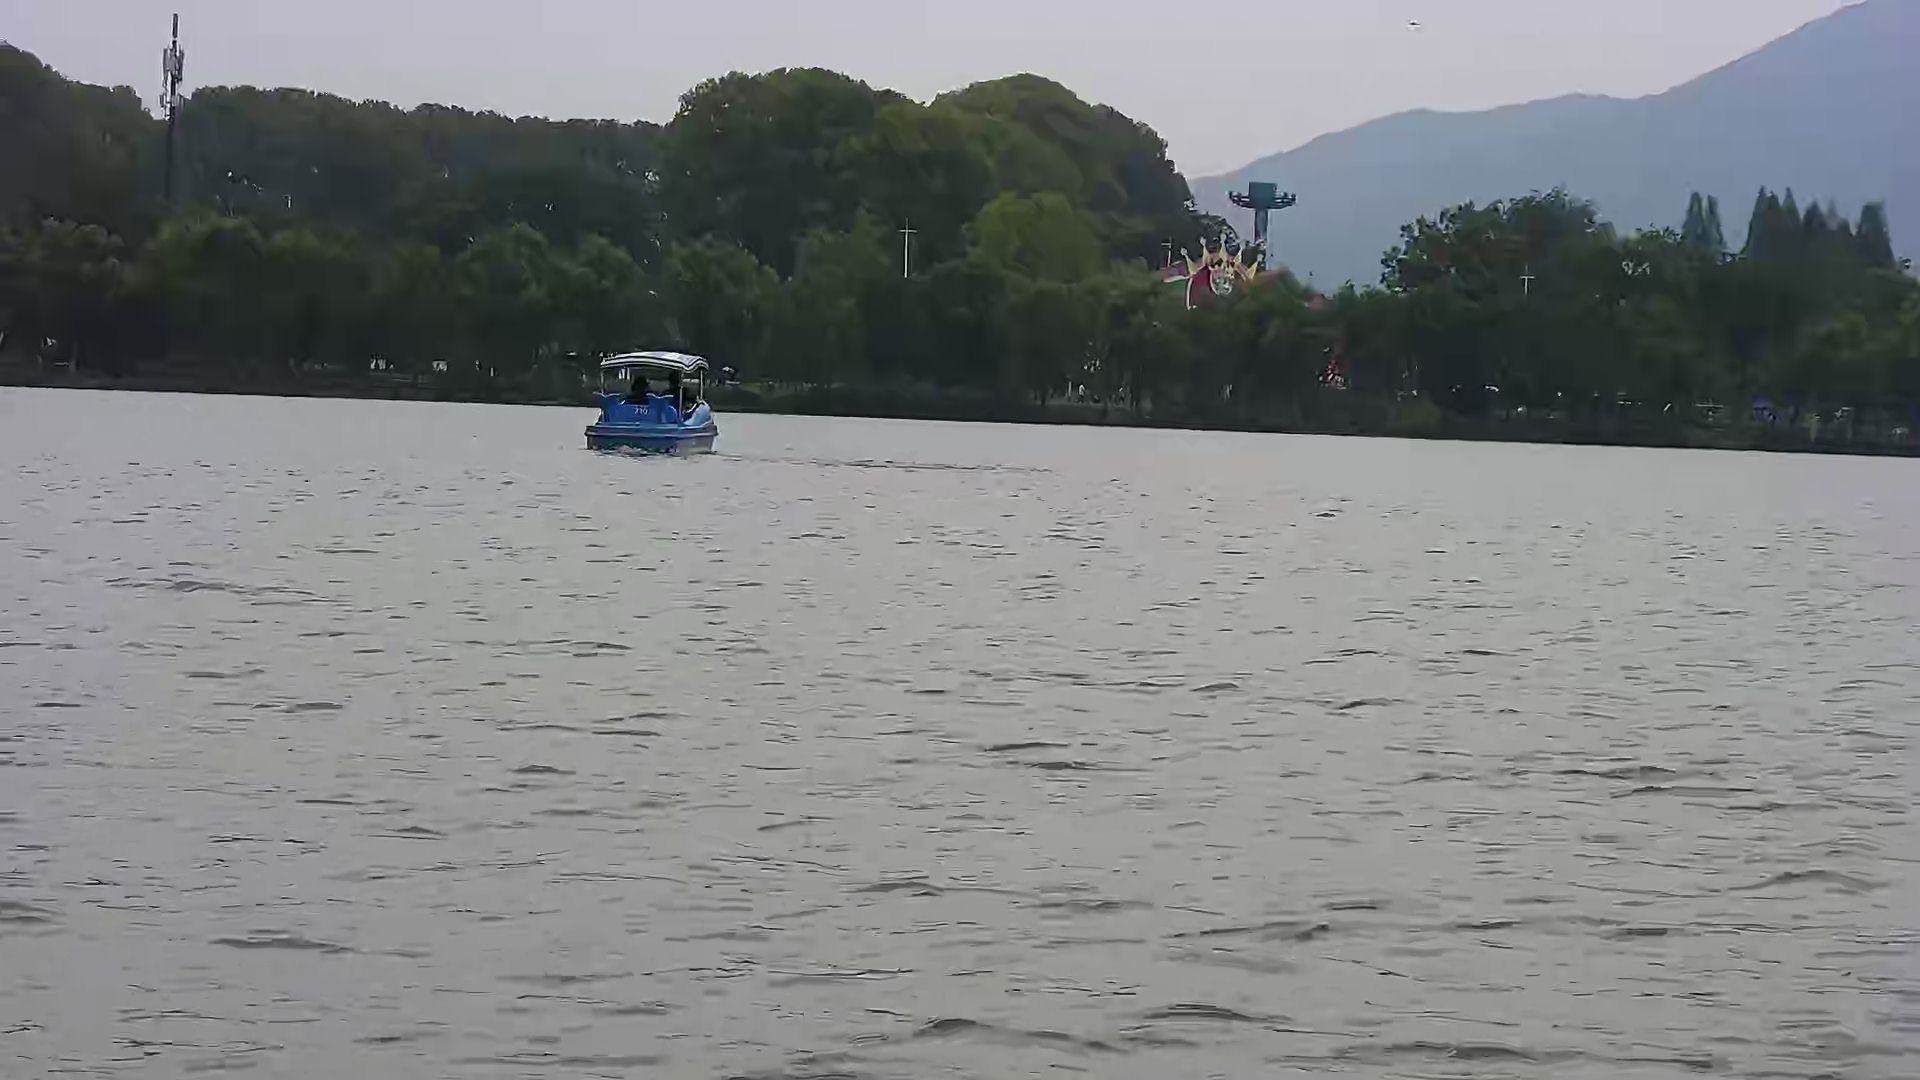boat: (585, 342, 725, 459)
